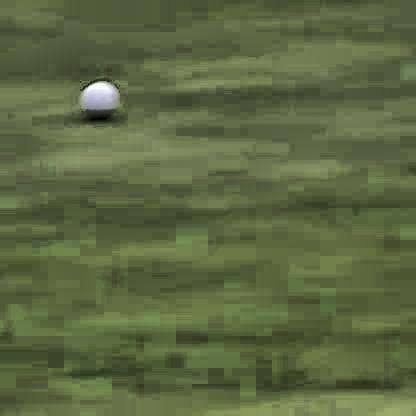golfball: (78, 76, 120, 120)
